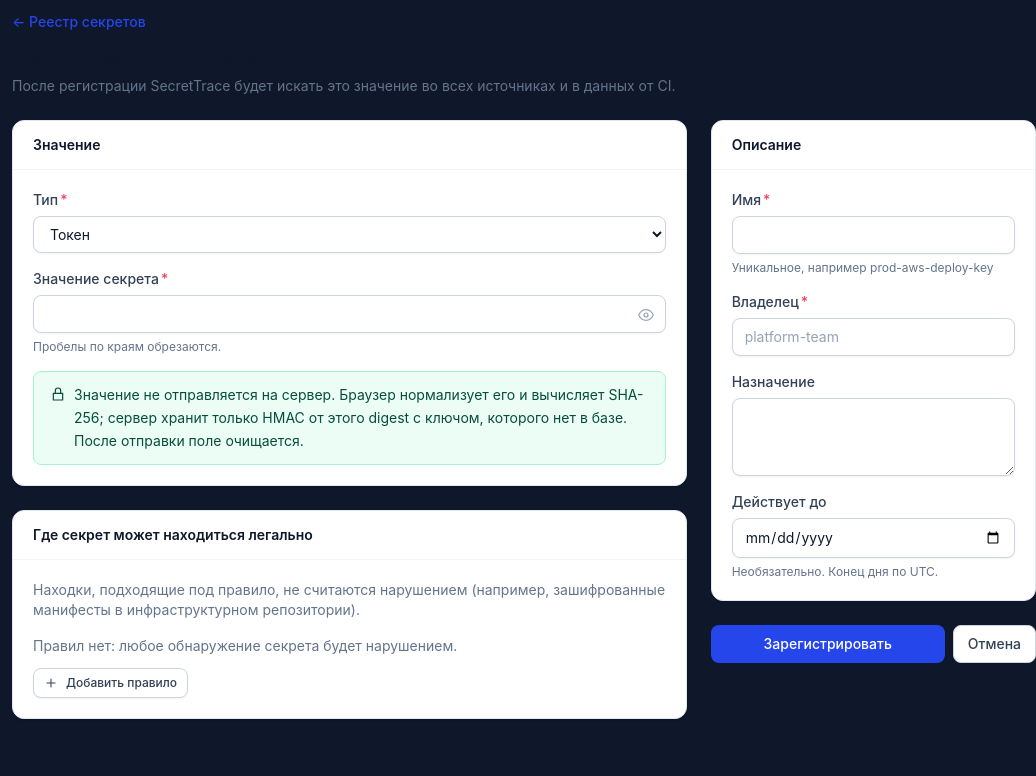
secret registration › clears the value after a conflict
In the field labelled "Имя*": x=873, y=235 [732,216,1015,254], type "dup"
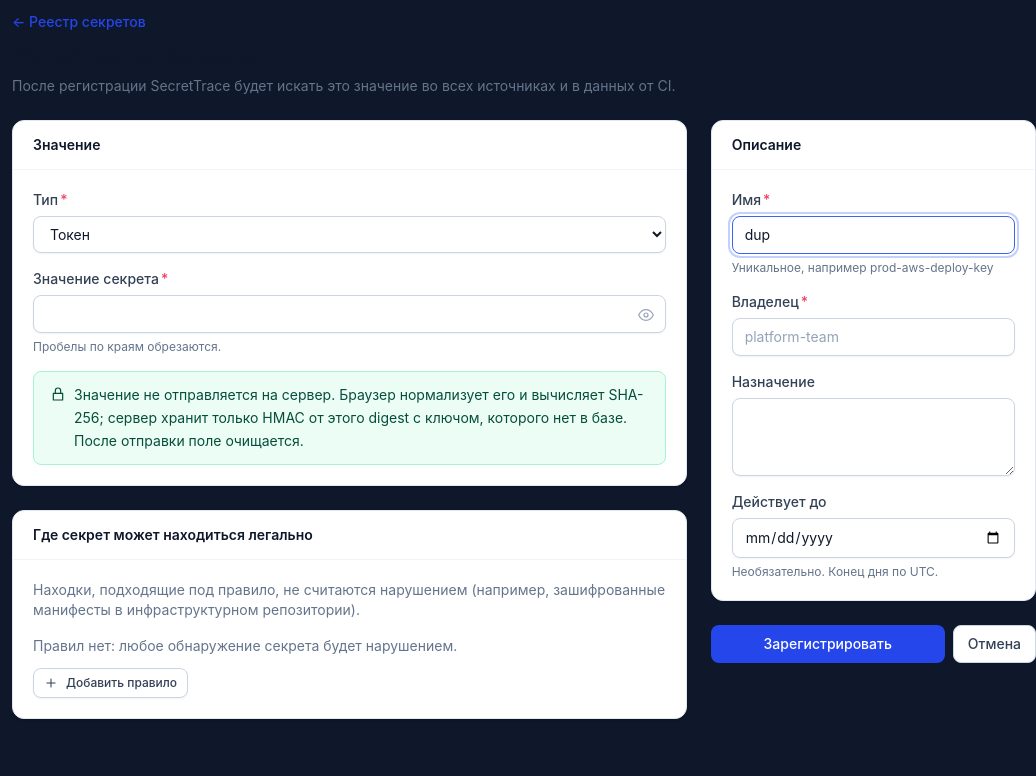
In the field labelled "Владелец*": x=873, y=337 [732,318,1015,356], type "team"
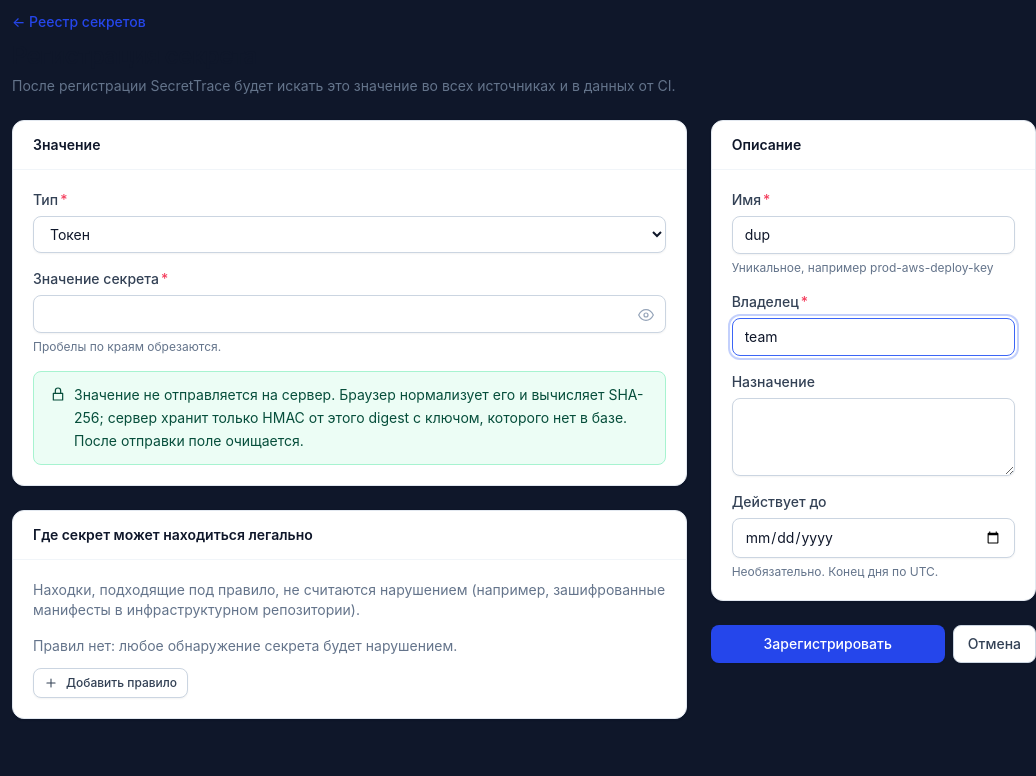
In the password field labelled "Значение секрета*": x=349, y=314 [33,295,666,333], type "ghp_0123456789abcdefghijABCDEFGHIJ0123"
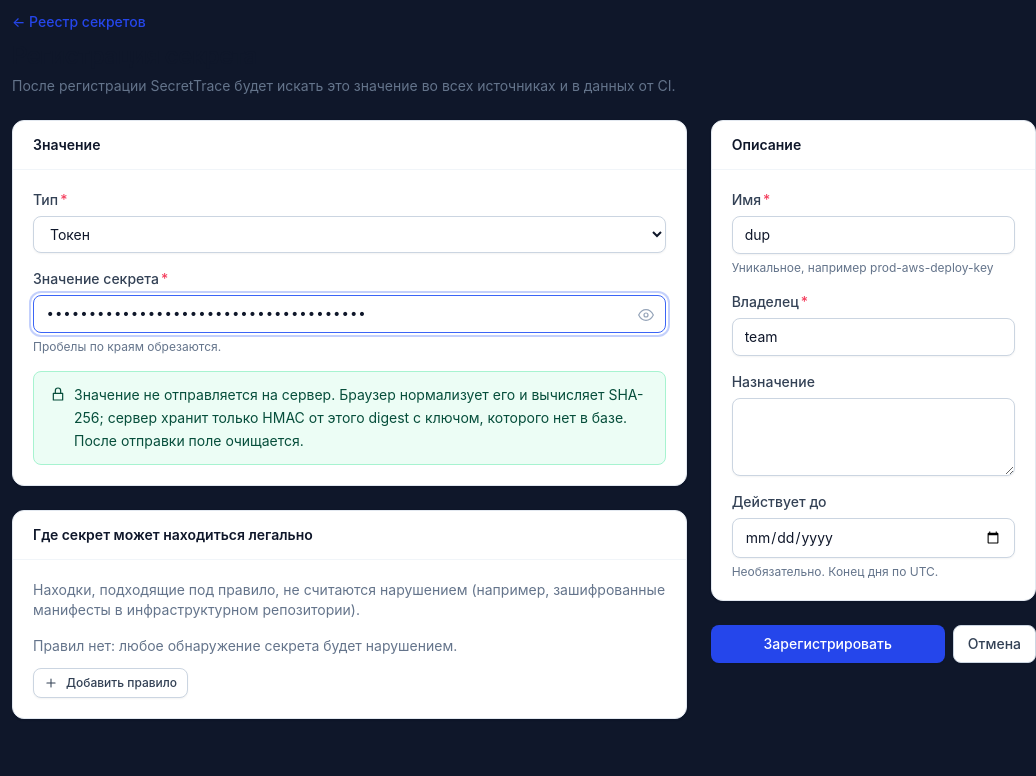
Click the button "Зарегистрировать": x=828, y=644 [711,625,945,663]
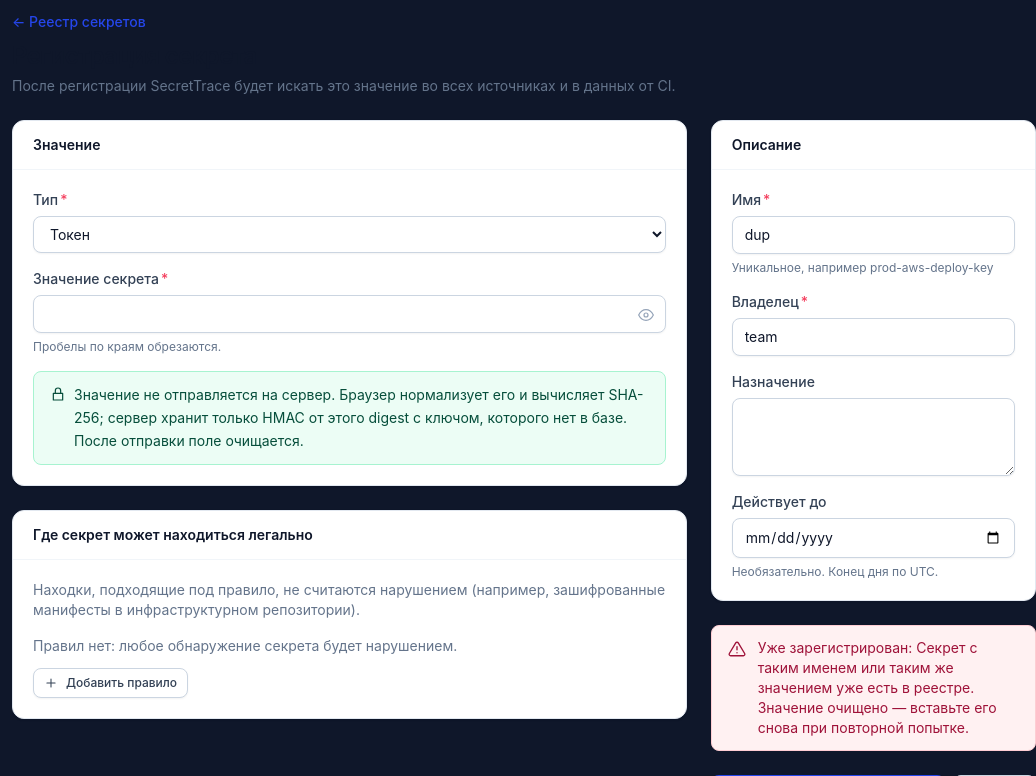
Result: the text "Уже зарегистрирован" is shown at [758,639,997,736]
